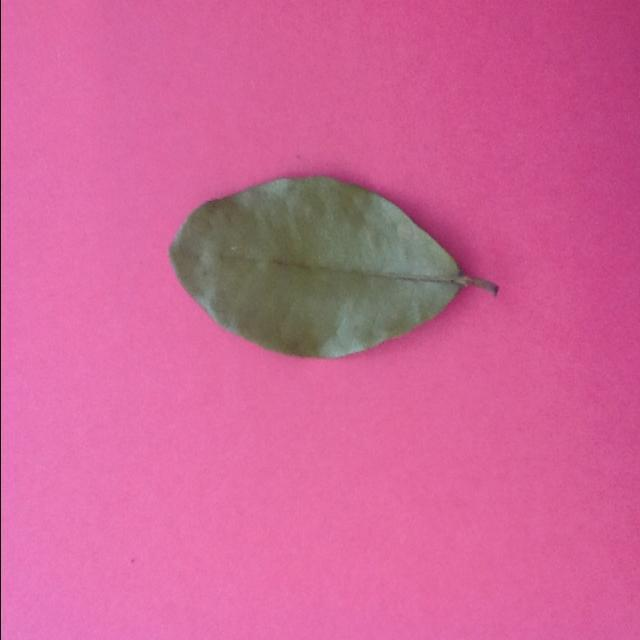foliage: (165, 167, 503, 369)
